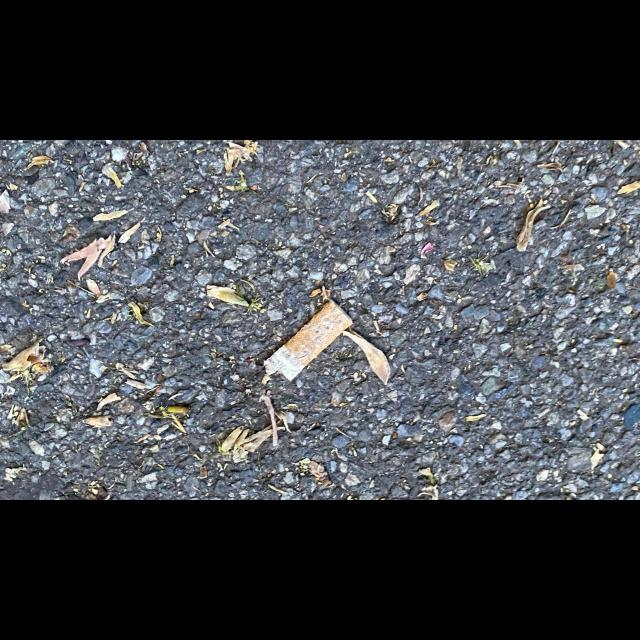cigarette: (262, 299, 354, 390)
